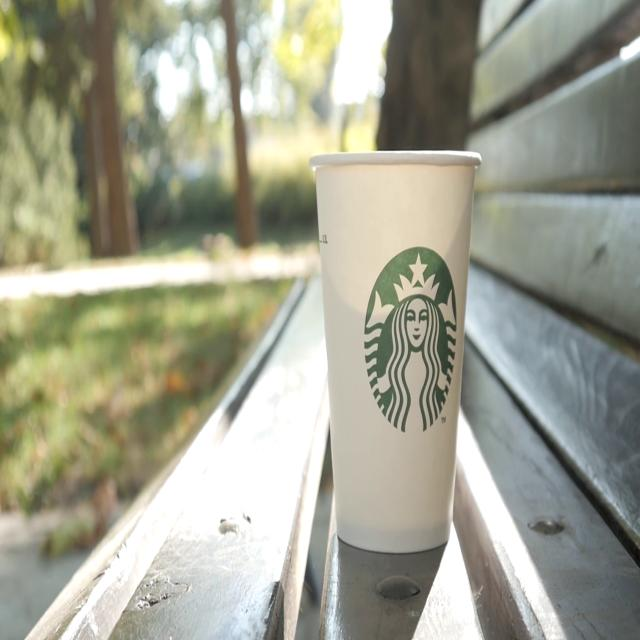starbucks: (360, 241, 459, 443)
